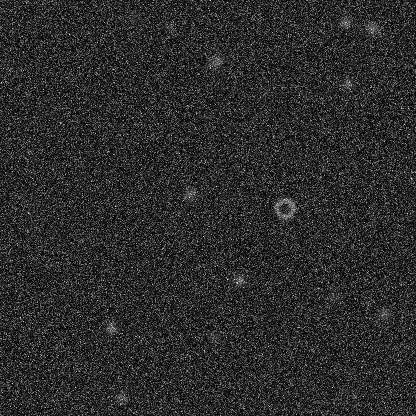Ring: (272, 196, 296, 220), (334, 386, 358, 410)
Spot: (376, 305, 392, 321), (363, 20, 379, 36), (112, 389, 128, 405), (231, 272, 247, 288), (208, 53, 224, 69), (160, 19, 176, 35), (339, 75, 355, 91), (337, 14, 353, 30), (102, 320, 118, 336), (21, 218, 37, 234), (326, 287, 342, 303), (124, 9, 140, 25), (182, 185, 198, 201), (205, 328, 221, 344)
